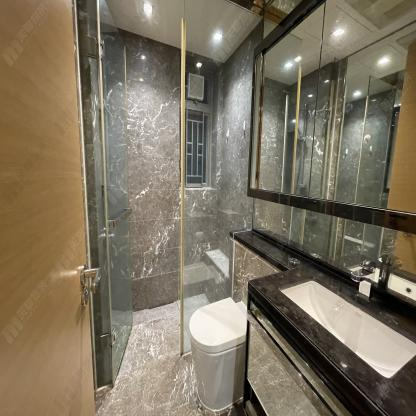Exhaust Fan: (187, 73, 206, 102)
Faucet: (352, 256, 374, 301)
Toilet: (185, 292, 248, 412)
Toilet Sink: (248, 263, 416, 416)
Water Cubicle: (73, 0, 262, 397)
